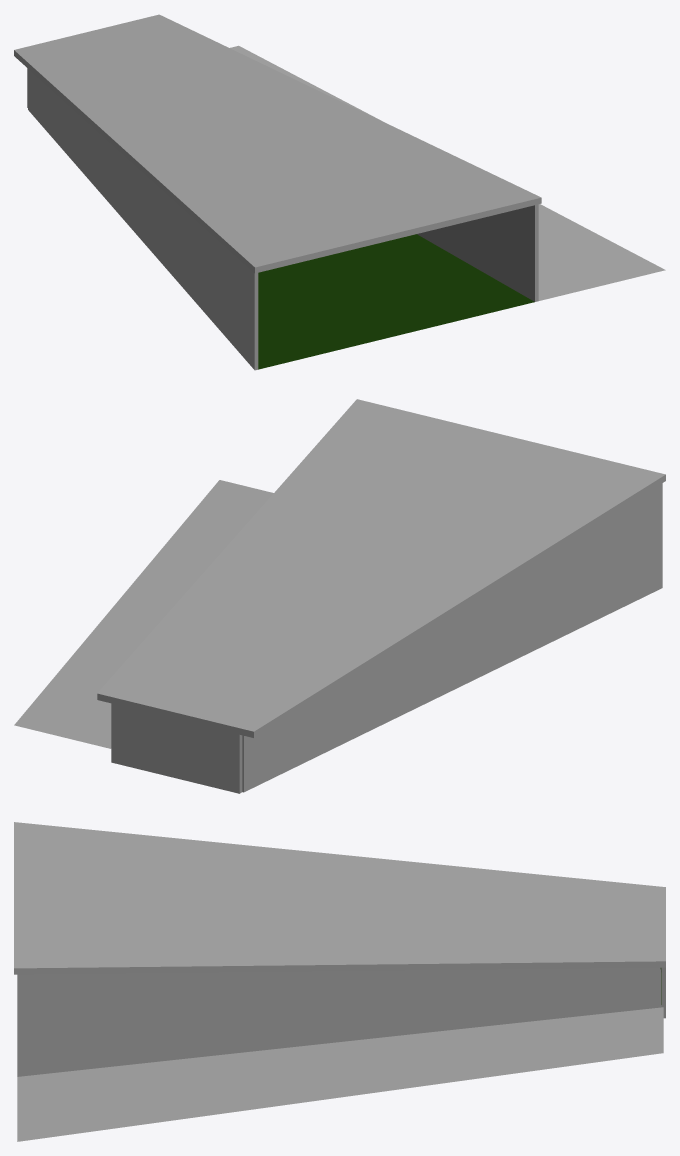
The model's file is classroom_5.fbx.
3 views of the same model, one above another, from view 1: azimuth 30°, elevation 25°; view 2: azimuth 150°, elevation 25°; view 3: azimuth 270°, elevation 25° (orthographic). The views are drawn at different scales.
Visible parts, largest first — view 1: pCube26, floor_, wall, rouka, wall1; view 2: pCube26, wall, rouka, wall2; view 3: pCube26, wall1, rouka.
Boxes of the visible parts, left/top/right/bottom form: pCube26: left=14, top=14, right=541, bottom=273; floor_: left=258, top=234, right=534, bottom=369; wall: left=28, top=69, right=258, bottom=370; rouka: left=230, top=45, right=665, bottom=300; wall1: left=417, top=204, right=538, bottom=301; pCube26: left=97, top=399, right=665, bottom=737; wall: left=242, top=483, right=662, bottom=792; rouka: left=14, top=480, right=273, bottom=748; wall2: left=111, top=703, right=242, bottom=793; pCube26: left=14, top=822, right=665, bottom=974; wall1: left=17, top=967, right=661, bottom=1076; rouka: left=17, top=1007, right=663, bottom=1141.
Size of the model in its own units: 1153 by 279 by 1509.
